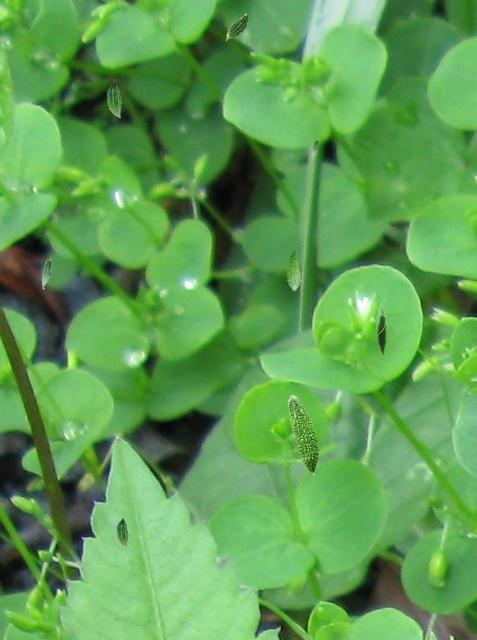ampalaya: (287, 394, 320, 476), (285, 248, 301, 292), (225, 13, 248, 41), (106, 79, 122, 118), (376, 309, 388, 355), (116, 516, 129, 548), (41, 257, 52, 289), (311, 138, 318, 159)
